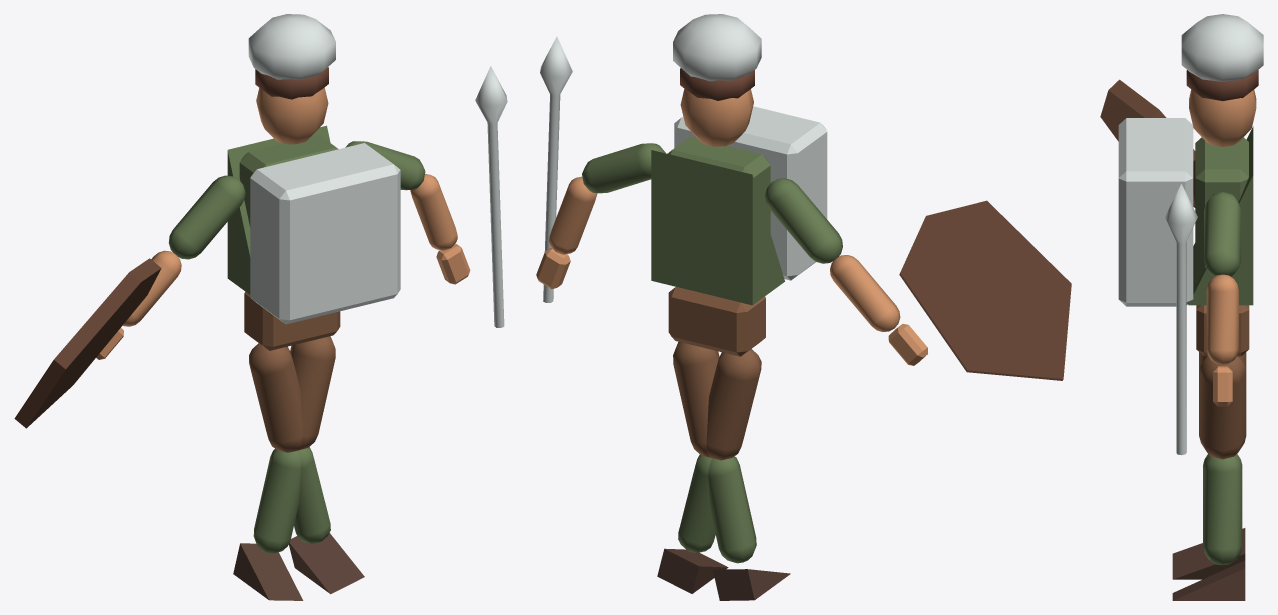
The model's file is adventurer.rustic.glb.
The picture shows the model from 3 angles, left to right: view 1: azimuth 30°, elevation 25°; view 2: azimuth 150°, elevation 25°; view 3: azimuth 270°, elevation 25°; orthographic projection.
Visible parts, largest first — view 1: accessory.body, accessory.off-hand, accessory.head, thigh.left, shin.right, upper-arm.left, accessory.main-hand, thigh.right, head, pelvis, foot.left, tunic (+8 smaller); view 2: accessory.off-hand, tunic, accessory.body, pelvis, accessory.head, thigh.left, shin.right, upper-arm.left, thigh.right, head, accessory.main-hand, forearm.left (+9 smaller); view 3: accessory.body, accessory.head, shin.left, thigh.right, torso, accessory.main-hand, upper-arm.right, head, forearm.right, tunic, accessory.off-hand, foot.left (+4 smaller).
Part boxes in pixels (x1,y1,x2,y2): accessory.body: (250,143,400,324); accessory.off-hand: (14,258,161,428); accessory.head: (248,14,335,80); thigh.left: (249,343,302,452); shin.right: (253,449,300,553); upper-arm.left: (168,175,245,259); accessory.main-hand: (475,66,507,327); thigh.right: (290,336,335,450); head: (256,87,328,144); pelvis: (244,292,340,350); foot.left: (288,533,364,594); tunic: (227,125,330,294); accessory.off-hand: (899,200,1071,380); tunic: (651,150,784,305); accessory.body: (674,106,827,280); pelvis: (668,287,765,356); accessory.head: (673,14,761,81); thigh.left: (706,349,761,460); shin.right: (708,456,756,563); upper-arm.left: (765,178,842,263); thigh.right: (673,342,719,458); head: (680,89,753,146); accessory.main-hand: (540,36,572,302); forearm.left: (830,255,900,331); accessory.body: (1118,118,1193,306); accessory.head: (1181,14,1263,81); shin.left: (1203,455,1242,565); thigh.right: (1199,356,1246,459); torso: (1195,137,1248,282); accessory.main-hand: (1165,184,1197,455); upper-arm.right: (1204,192,1241,276); head: (1189,89,1256,146); forearm.right: (1206,274,1238,364); tunic: (1188,126,1253,305); accessory.off-hand: (1100,79,1195,207); foot.left: (1172,560,1245,600).
Size of the model in its own units: 2.99 by 3.18 by 0.8304.
